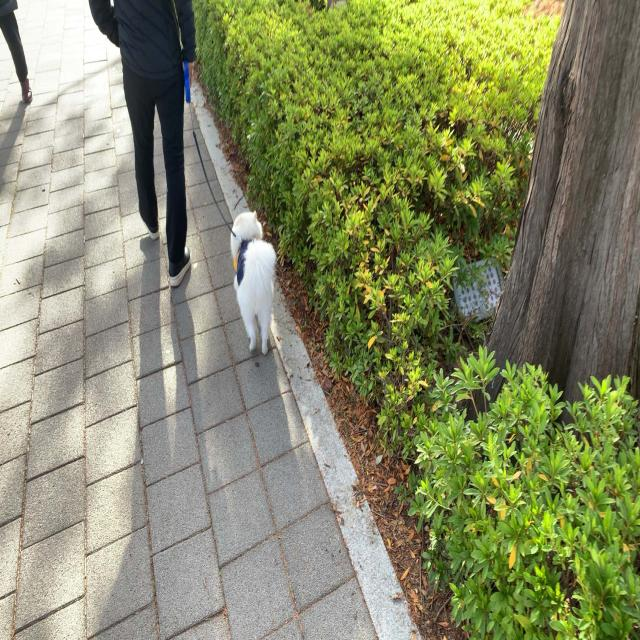Leashed_Dog: (165, 24, 278, 360)
